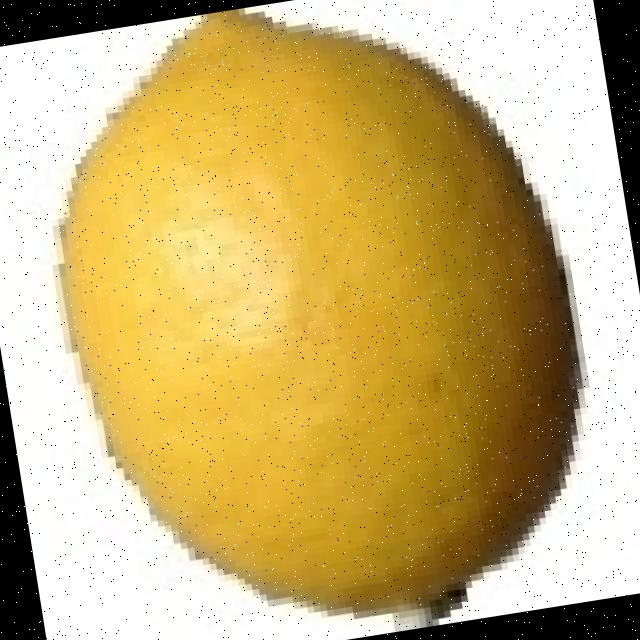lemon: (60, 9, 577, 612)
